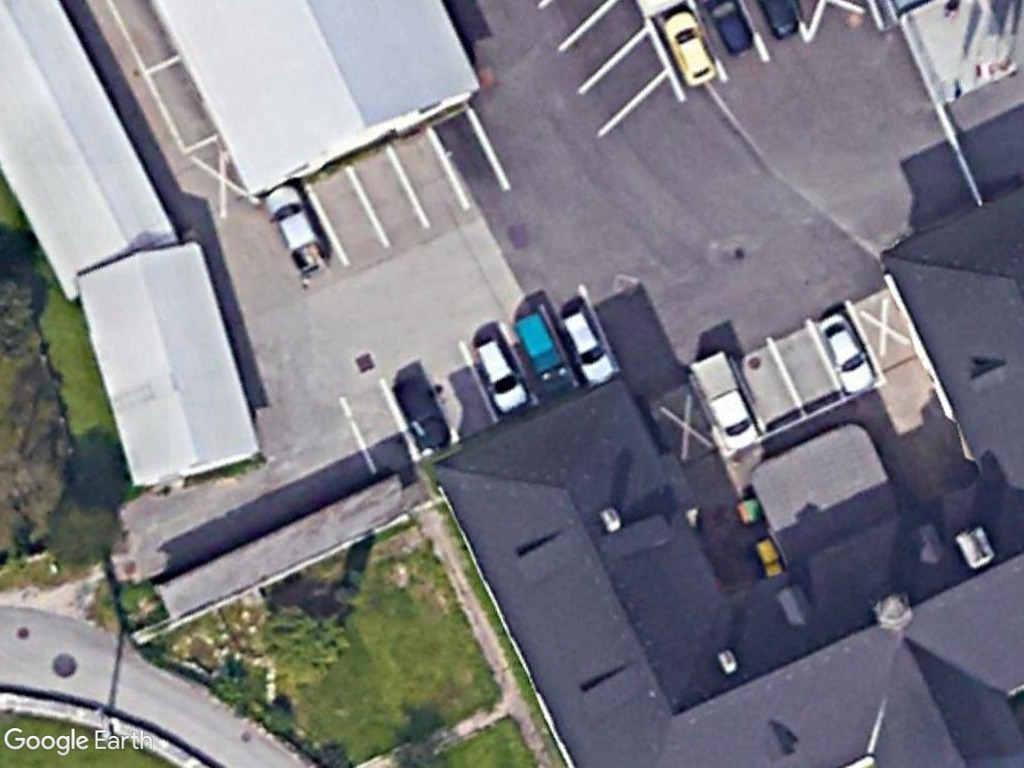car: (813, 303, 879, 404), (388, 367, 458, 461), (467, 325, 534, 419), (511, 308, 578, 402), (553, 300, 620, 389), (657, 7, 721, 91)
other: (688, 346, 762, 457), (260, 183, 334, 283)
